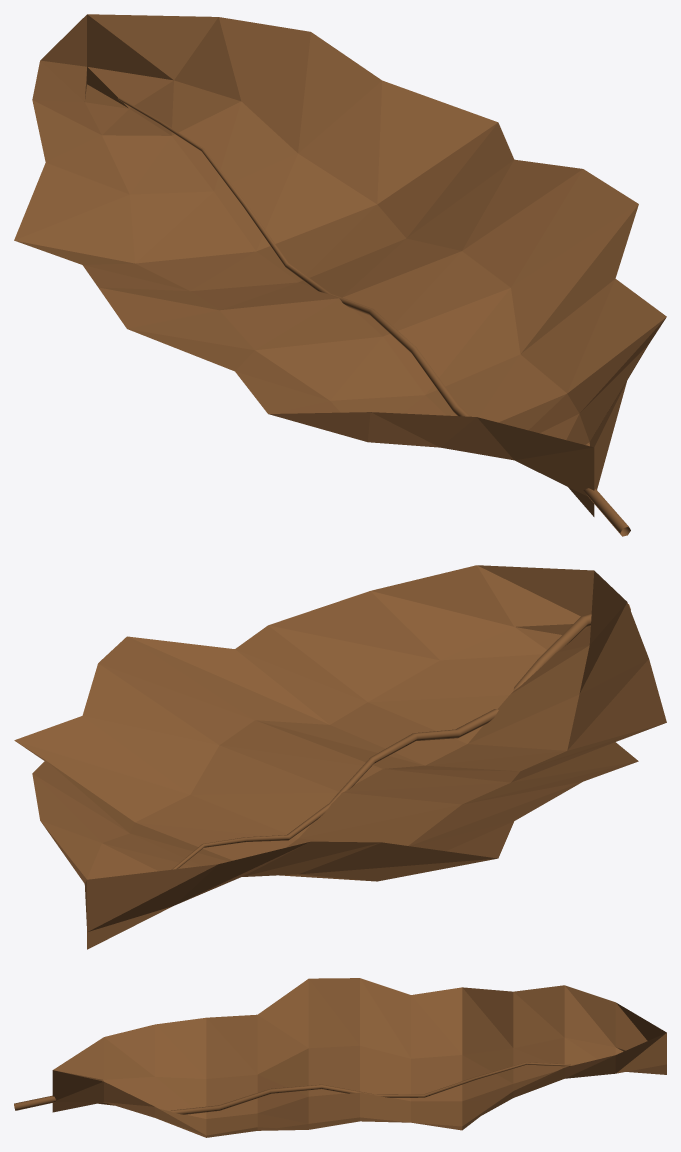
Rendered from leaf_00.glb.
3 renders of one model, top to bottom at view 1: azimuth 30°, elevation 25°; view 2: azimuth 150°, elevation 25°; view 3: azimuth 270°, elevation 25°, orthographic. The views are drawn at different scales.
Parts seen in each view (by area): view 1: Leaf with curled edges; view 2: Leaf with curled edges; view 3: Leaf with curled edges.
Part boxes in pixels (box(x1,y1,x2,y2)): Leaf with curled edges: box(14, 14, 666, 536); Leaf with curled edges: box(14, 565, 666, 949); Leaf with curled edges: box(14, 978, 666, 1137).
Bounding box in the file's own units: 0.0612 × 0.0175 × 0.1116.
